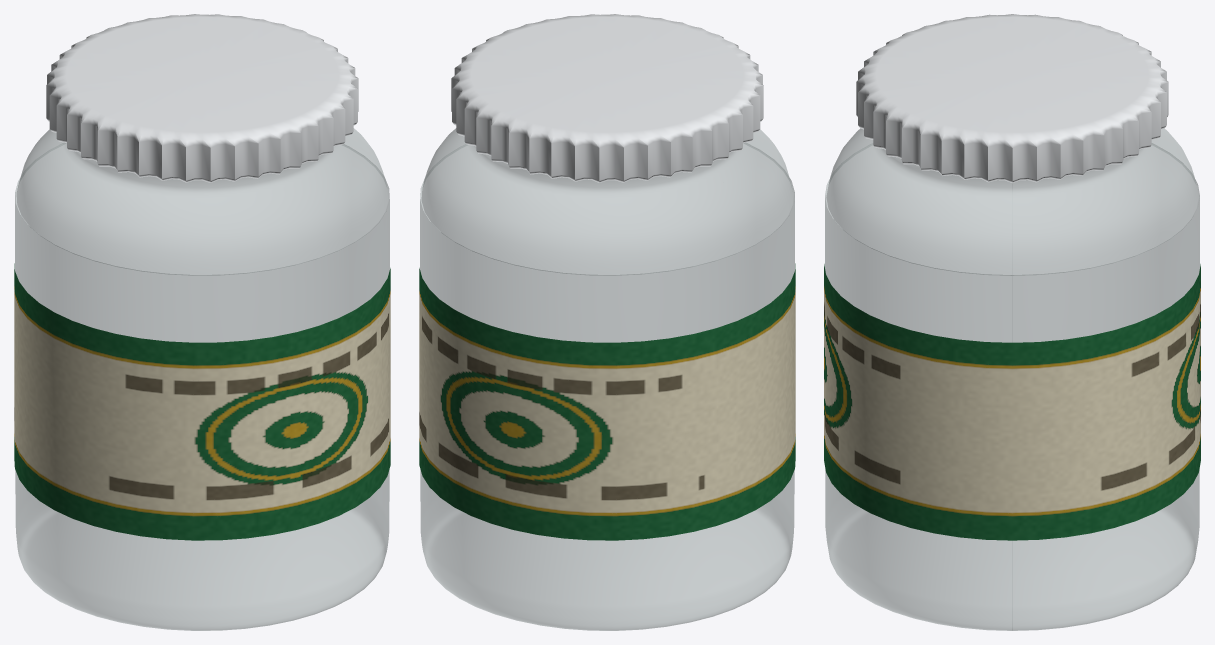
The model's file is frasco_vidrio.glb.
3 renders of one model, left to right at view 1: azimuth 30°, elevation 25°; view 2: azimuth 150°, elevation 25°; view 3: azimuth 270°, elevation 25°, orthographic.
Visible parts, largest first — view 1: botella_vidrio_cuerpo, botella_vidrio_etiqueta, botella_vidrio_chapa; view 2: botella_vidrio_cuerpo, botella_vidrio_etiqueta, botella_vidrio_chapa; view 3: botella_vidrio_cuerpo, botella_vidrio_etiqueta, botella_vidrio_chapa.
Part boxes in pixels (<box>): botella_vidrio_cuerpo: <box>15,128,389,630</box>; botella_vidrio_etiqueta: <box>14,263,390,540</box>; botella_vidrio_chapa: <box>46,14,358,182</box>; botella_vidrio_cuerpo: <box>420,128,794,630</box>; botella_vidrio_etiqueta: <box>419,263,795,540</box>; botella_vidrio_chapa: <box>451,14,763,182</box>; botella_vidrio_cuerpo: <box>825,128,1199,630</box>; botella_vidrio_etiqueta: <box>824,264,1200,540</box>; botella_vidrio_chapa: <box>856,14,1168,182</box>.
Size of the model in its own units: 0.0725 by 0.102 by 0.0725.
Materials: 3 (1 with a texture image).
